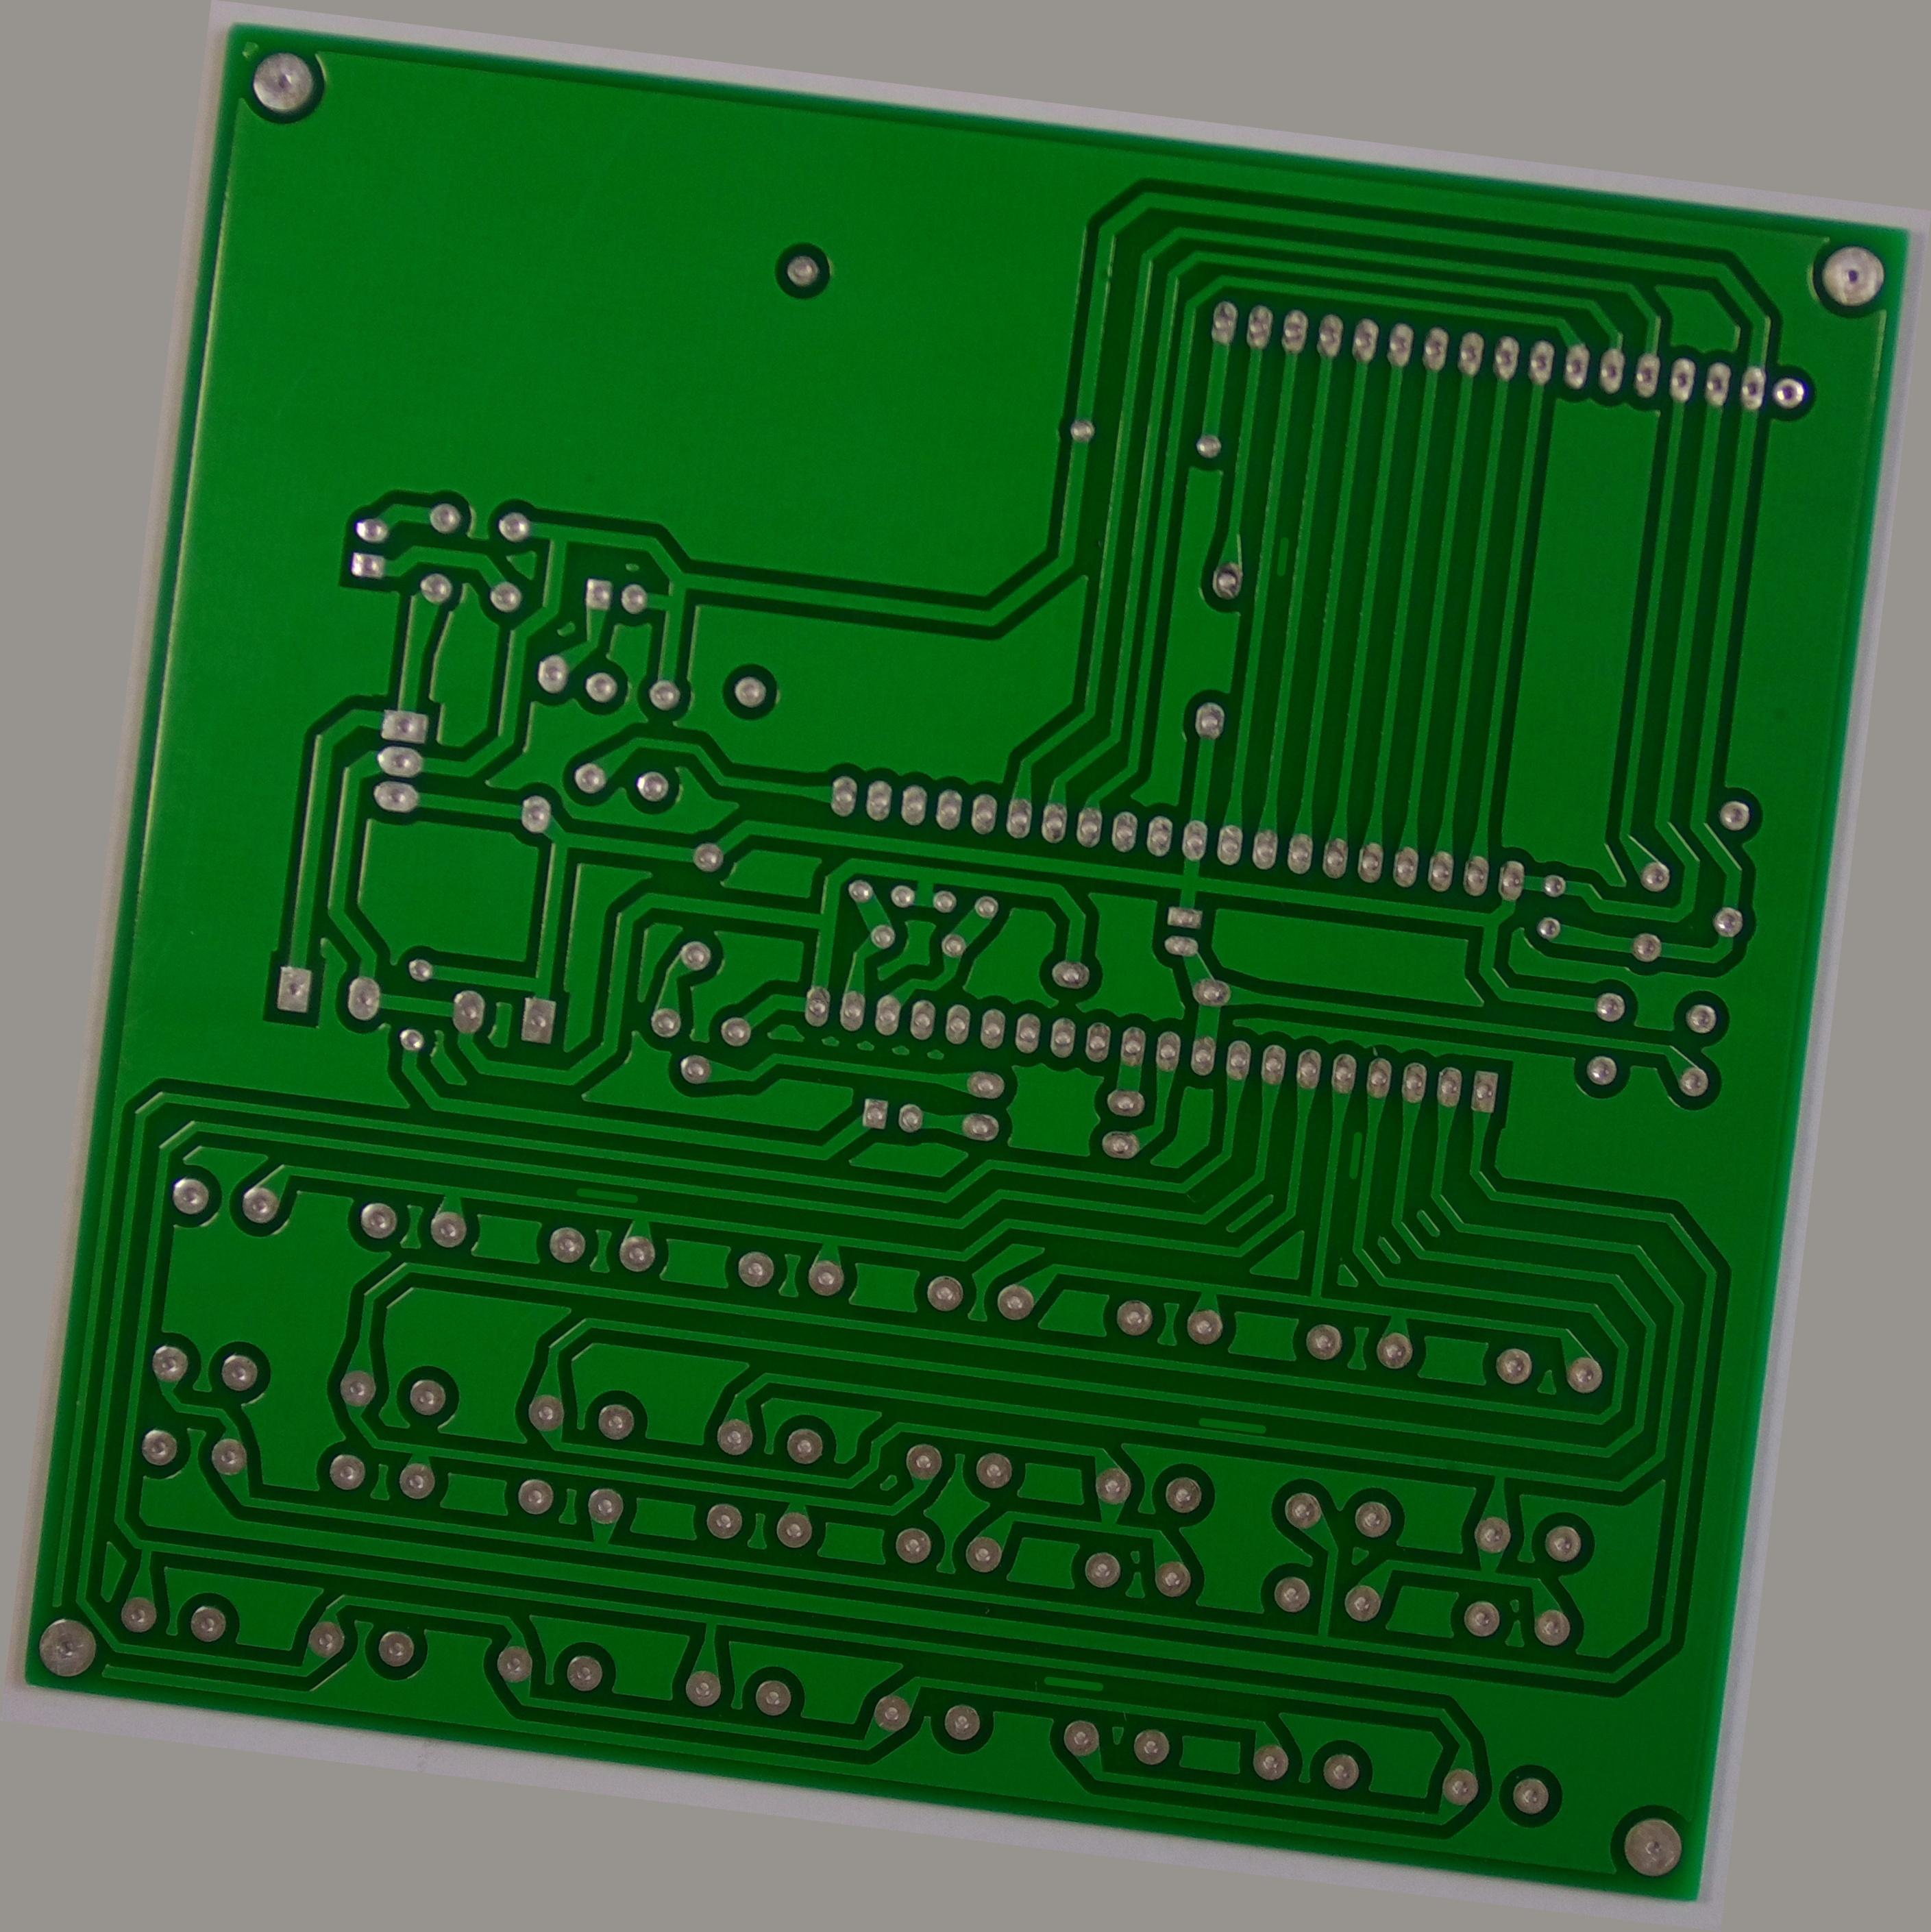spurious_copper: (1271, 1419, 1367, 1456), (1137, 1727, 1225, 1764), (553, 1251, 642, 1284), (1243, 441, 1282, 499), (1406, 1083, 1434, 1161)
